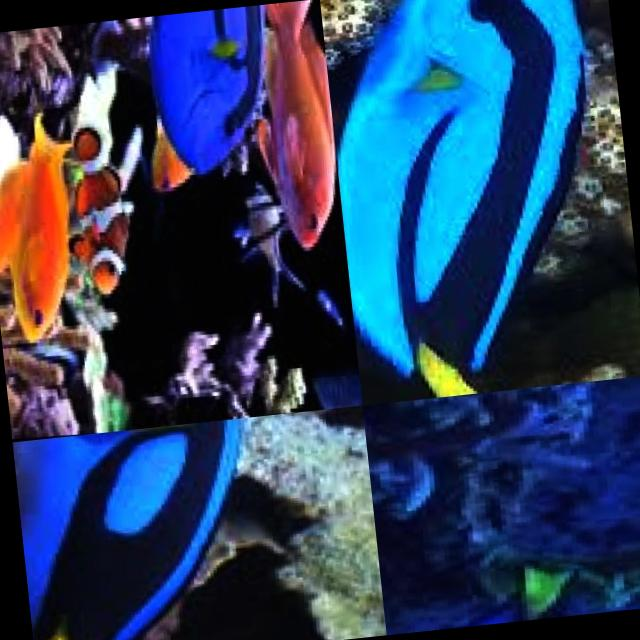BlueTang: (318, 0, 640, 405), (11, 418, 259, 640), (145, 5, 274, 182)
ClownFish: (62, 126, 138, 298)
GoldFish: (245, 0, 348, 255)
PlatyFish: (0, 115, 88, 348)
